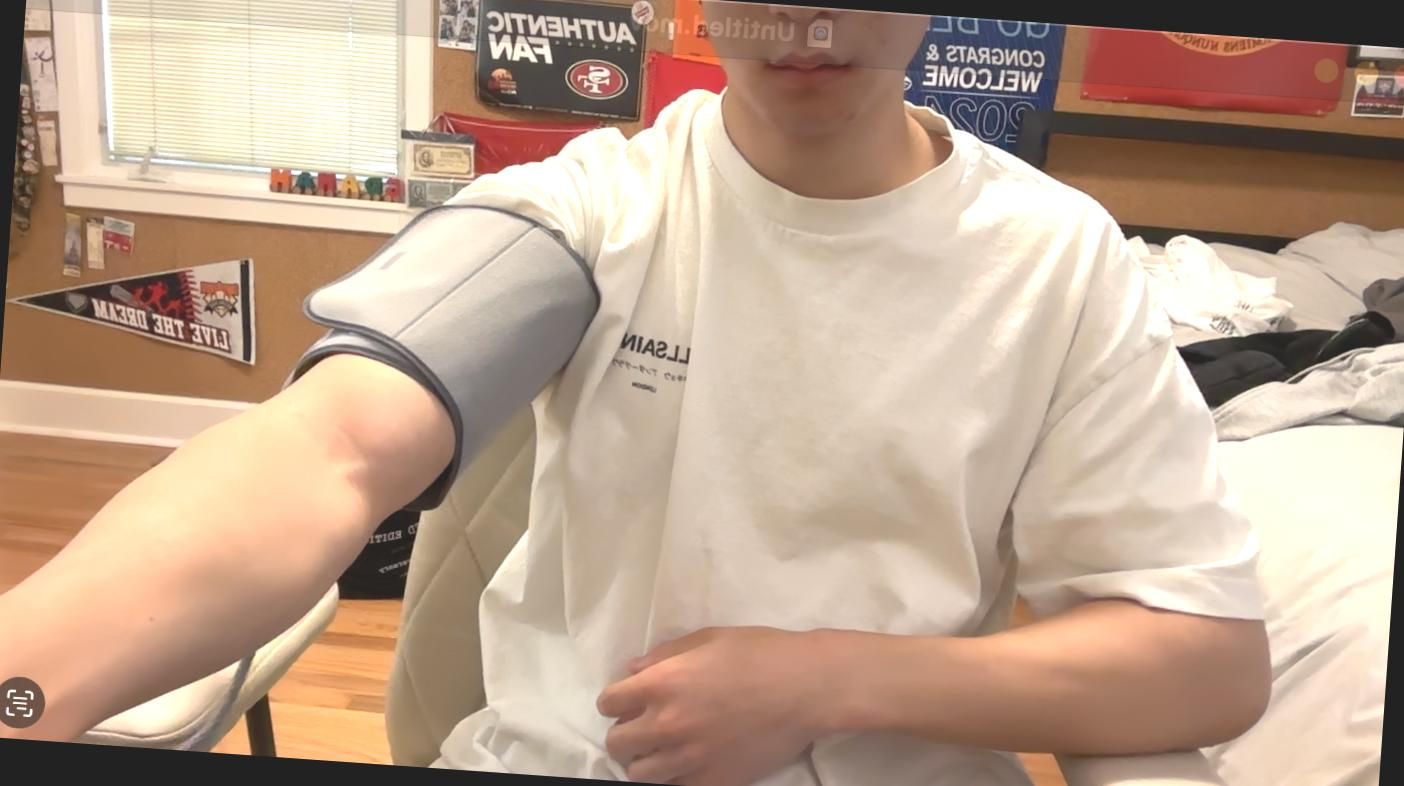cuff: (286, 186, 604, 522)
